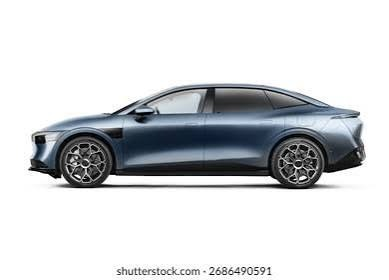car: (31, 83, 371, 187)
